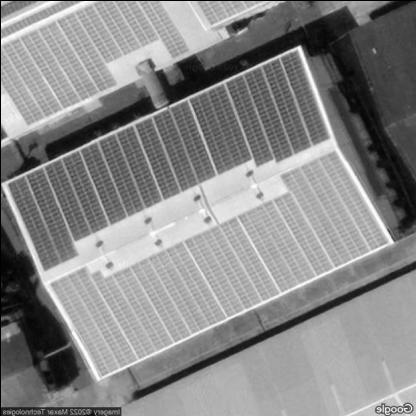solar-pv-panel: (105, 191, 333, 354), (41, 82, 253, 243), (0, 13, 117, 124), (278, 150, 388, 267), (48, 265, 146, 377), (241, 50, 330, 161), (4, 170, 77, 270), (73, 0, 155, 64), (223, 76, 276, 166), (136, 0, 188, 59), (195, 1, 265, 23)
